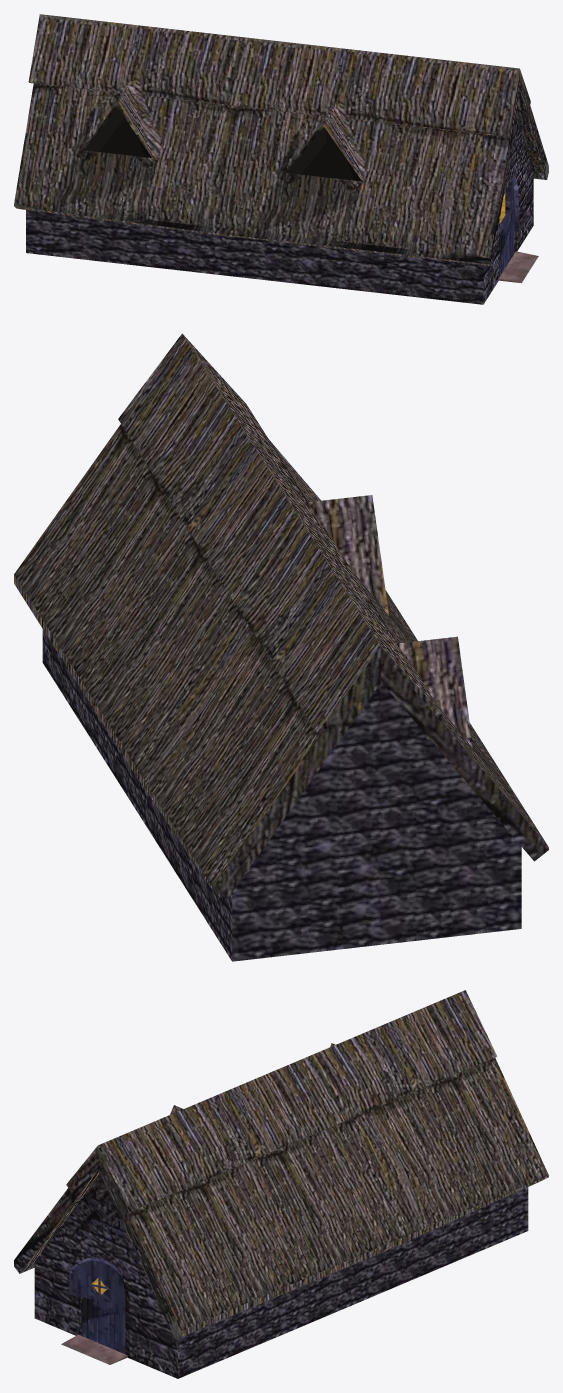
Rendered from cottage-north_textured.glb.
The picture shows the model from 3 angles, top to bottom: view 1: azimuth 30°, elevation 25°; view 2: azimuth 150°, elevation 25°; view 3: azimuth 270°, elevation 25°; orthographic projection. The views are drawn at different scales.
Parts seen in each view (by area): view 1: roofs, walls, openings, frames; view 2: roofs, walls; view 3: roofs, walls, frames.
Boxes of the visible parts, x1,y1,x2,y2 form: roofs: (14, 14, 548, 266); walls: (26, 115, 533, 304); openings: (84, 108, 361, 181); frames: (498, 177, 538, 283); roofs: (14, 333, 548, 898); walls: (42, 629, 521, 961); roofs: (14, 990, 548, 1339); walls: (34, 1174, 528, 1378); frames: (61, 1257, 127, 1364).
Bounding box in the file's own units: 9.65 × 4.14 × 9.69.
2 materials, 1 textured.
